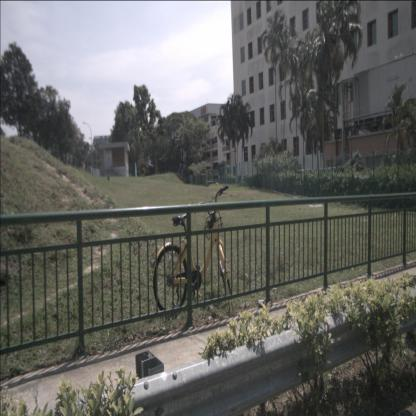vehicle-bicycle: (150, 184, 231, 318)
